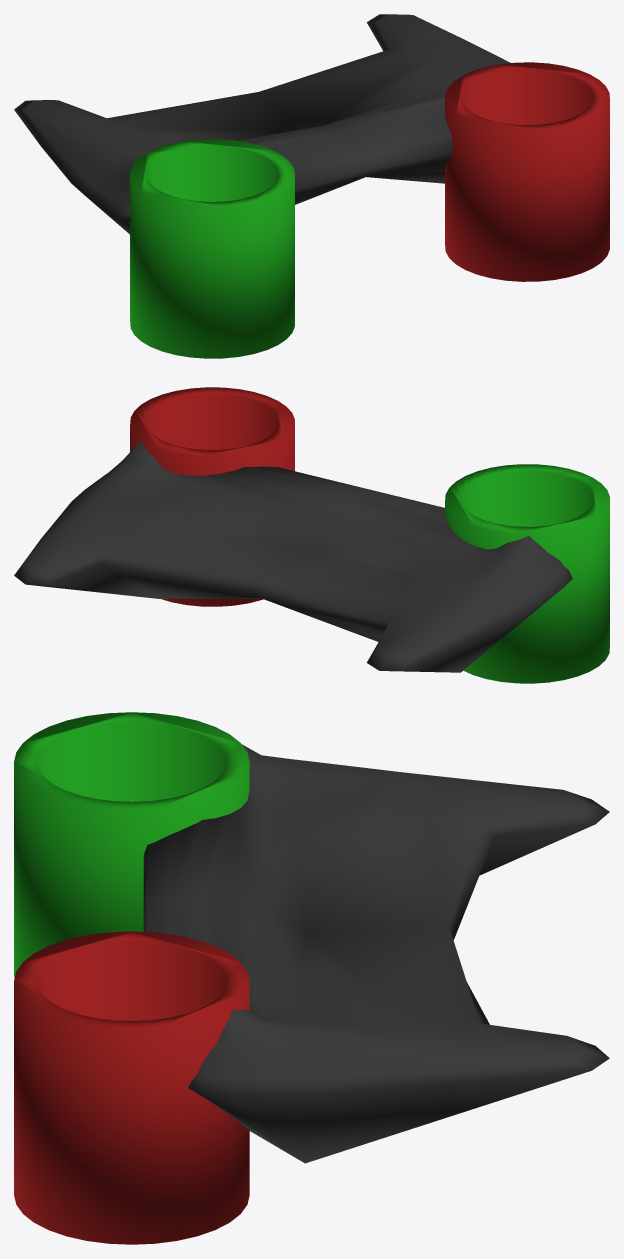
Rendered from dash.fbx.
The picture shows the model from 3 angles, top to bottom: view 1: azimuth 30°, elevation 25°; view 2: azimuth 150°, elevation 25°; view 3: azimuth 270°, elevation 25°; orthographic projection. The views are drawn at different scales.
Parts seen in each view (by area): view 1: Cube, Cylinder.002, Cylinder; view 2: Cube, Cylinder.002, Cylinder; view 3: Cube, Cylinder, Cylinder.002.
Boxes of the visible parts, x1,y1,x2,y2 form: Cube: (14, 14, 510, 234); Cylinder.002: (130, 139, 294, 358); Cylinder: (445, 62, 609, 281); Cube: (14, 441, 572, 672); Cylinder.002: (445, 464, 609, 683); Cylinder: (130, 387, 294, 606); Cube: (143, 744, 609, 1163); Cylinder: (14, 931, 249, 1244); Cylinder.002: (14, 712, 249, 977).
Size of the model in its own units: 642 by 200 by 506.
